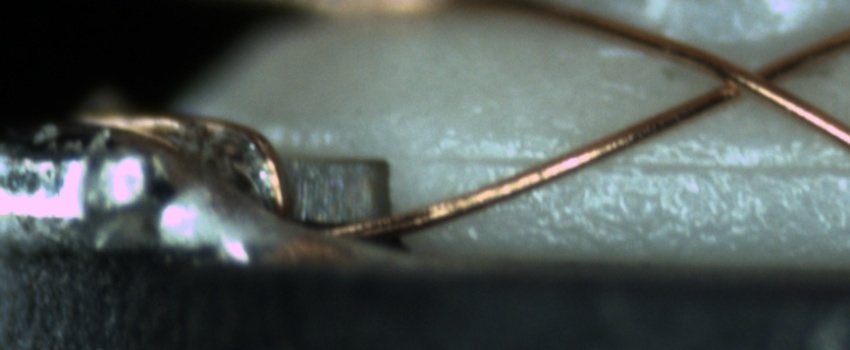CL: (695, 44, 799, 111)
DL: (400, 137, 850, 195)
TE: (72, 107, 299, 227)
